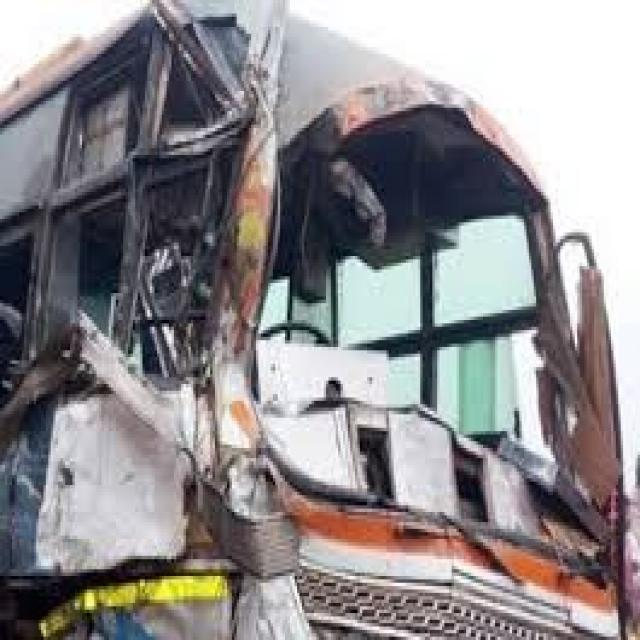accident: (0, 0, 621, 640)
